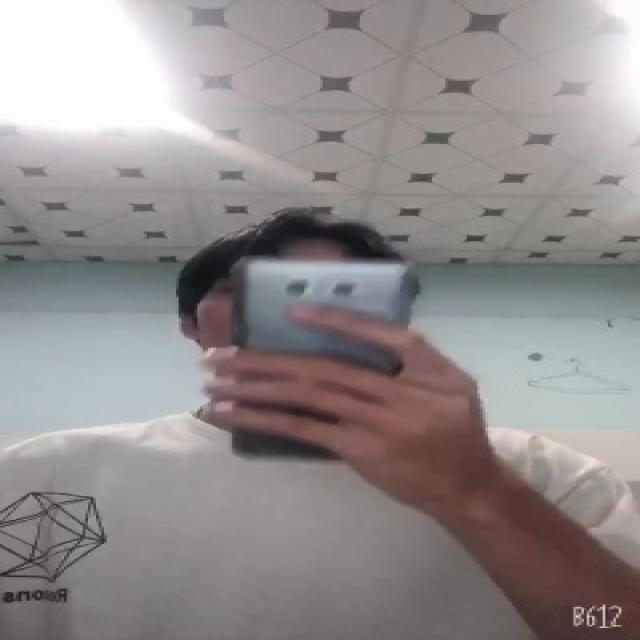Phone: (231, 258, 413, 466)
